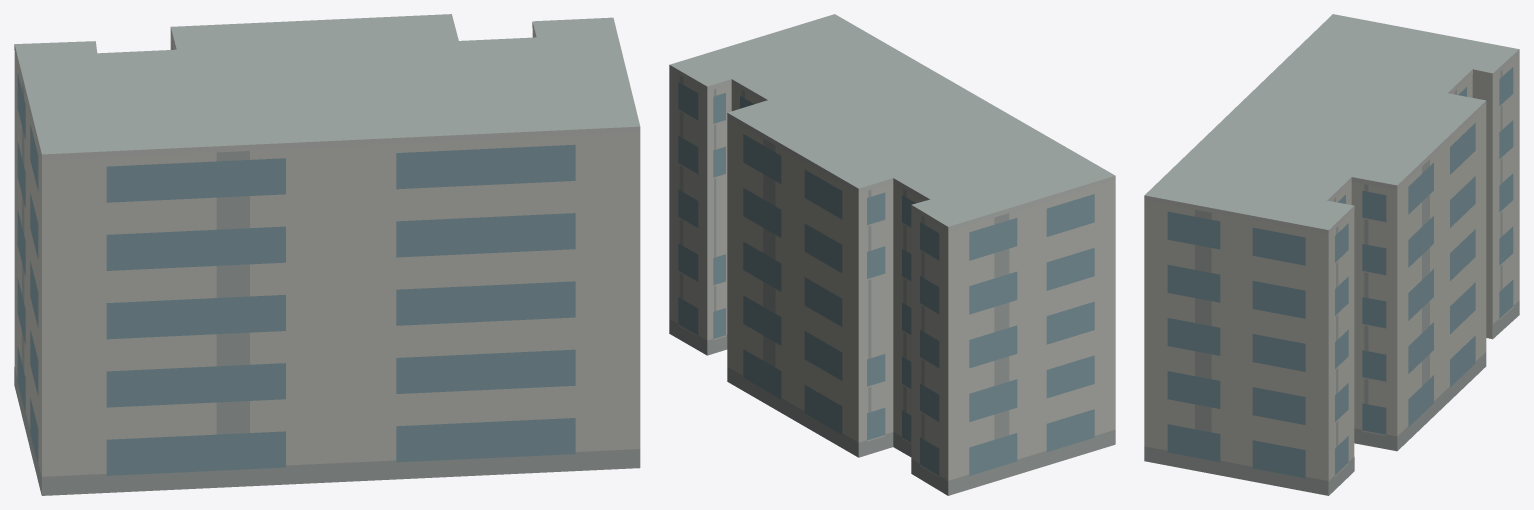
The model's file is survey-upis-32729224.glb.
The picture shows the model from 3 angles, left to right: view 1: azimuth 30°, elevation 25°; view 2: azimuth 150°, elevation 25°; view 3: azimuth 270°, elevation 25°; orthographic projection. The views are drawn at different scales.
Visible parts, largest first — view 1: survey-upis-32729224.tmp; view 2: survey-upis-32729224.tmp; view 3: survey-upis-32729224.tmp.
Boxes of the visible parts, left/top/right/bottom form: survey-upis-32729224.tmp: left=14, top=14, right=640, bottom=495; survey-upis-32729224.tmp: left=669, top=14, right=1115, bottom=495; survey-upis-32729224.tmp: left=1144, top=14, right=1519, bottom=495.
Size of the model in its own units: 23.55 by 13.5 by 17.28.
